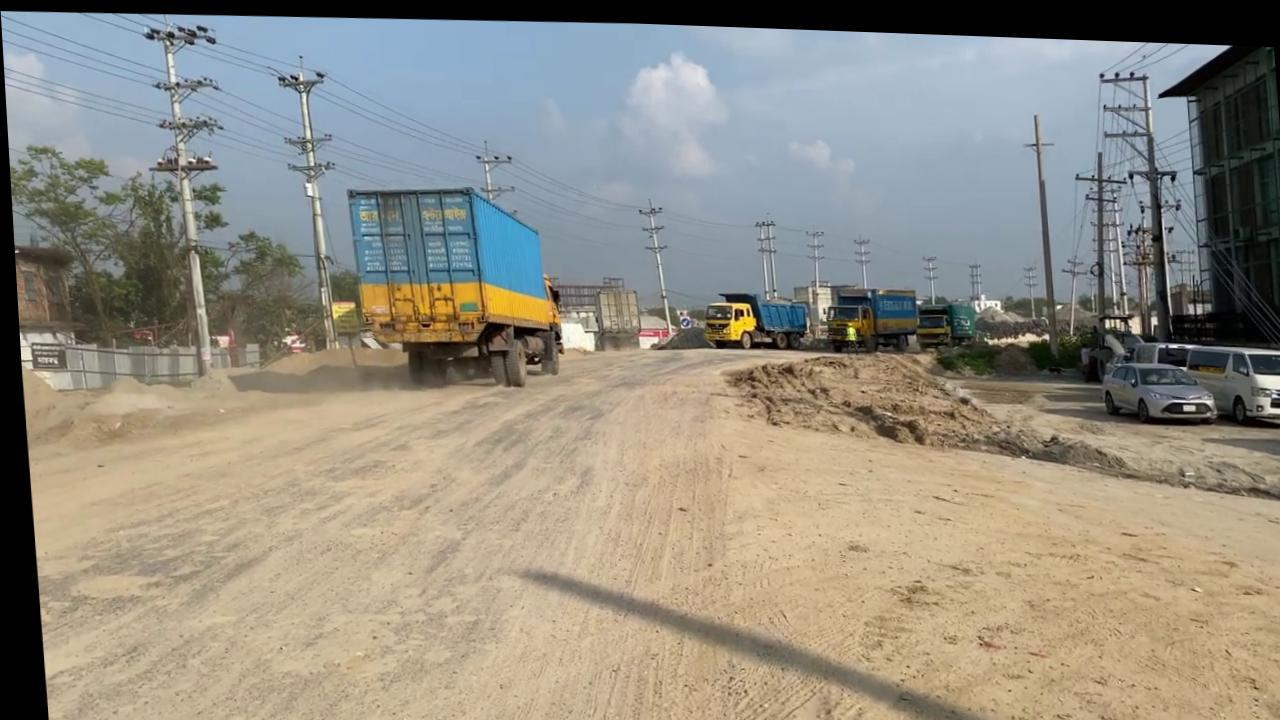Car: (1094, 351, 1214, 417)
Fence: (24, 333, 260, 397)
Pole: (135, 18, 235, 384), (267, 62, 352, 351), (1019, 105, 1066, 352), (635, 193, 671, 331)
Traffic-sign: (6, 139, 134, 349)
Tree: (341, 176, 563, 389), (695, 271, 976, 352), (696, 284, 808, 347), (818, 278, 917, 349), (549, 276, 639, 348), (789, 275, 864, 333), (910, 293, 975, 344), (540, 270, 560, 350)
